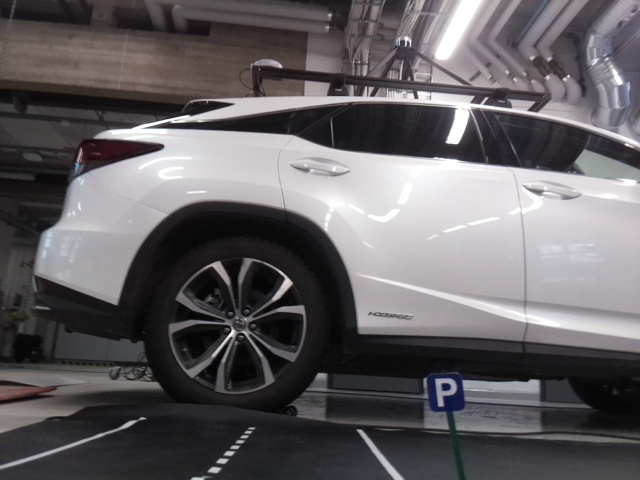Parking: (423, 374, 467, 412)
